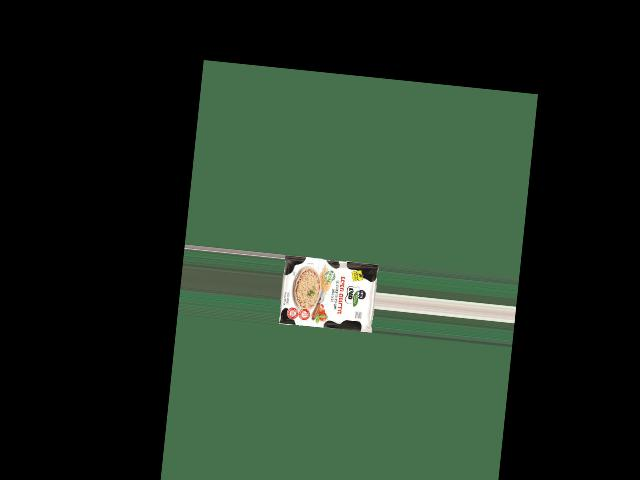cheese: (281, 253, 371, 344)
